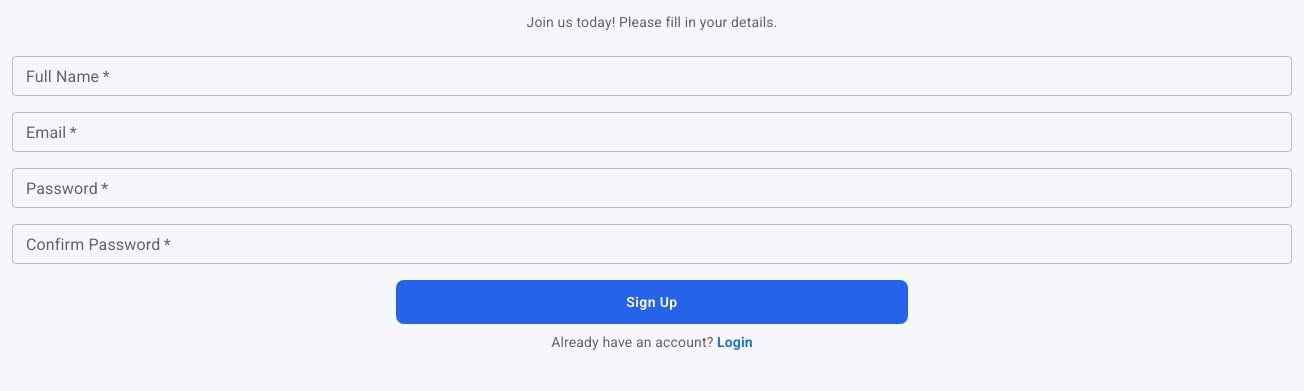
Scenario: shows error when passwords do not match
Type "bala" into the field labelled "Full Name *".
click(652, 76); type("bala")  # box [12,56,1292,96]
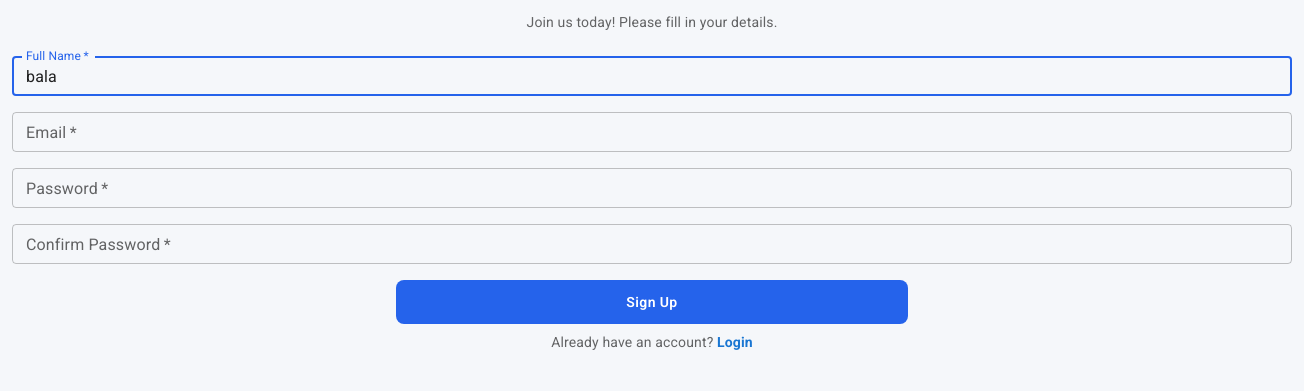
Type "bala@test.com" into the field labelled "Email *".
click(652, 132); type("bala@test.com")  # box [12,112,1292,152]
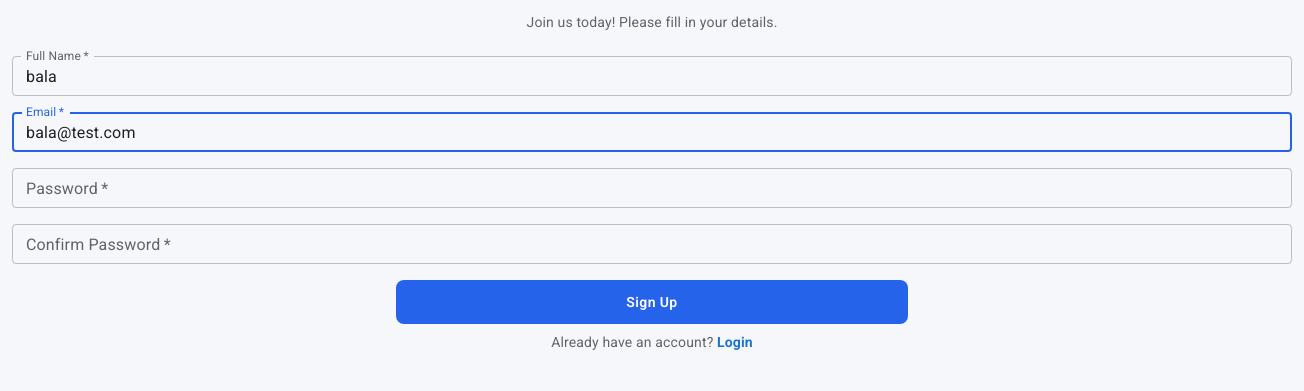
Type "Password123!" into the password field labelled "Password *".
click(652, 188); type("Password123!")  # box [12,168,1292,208]
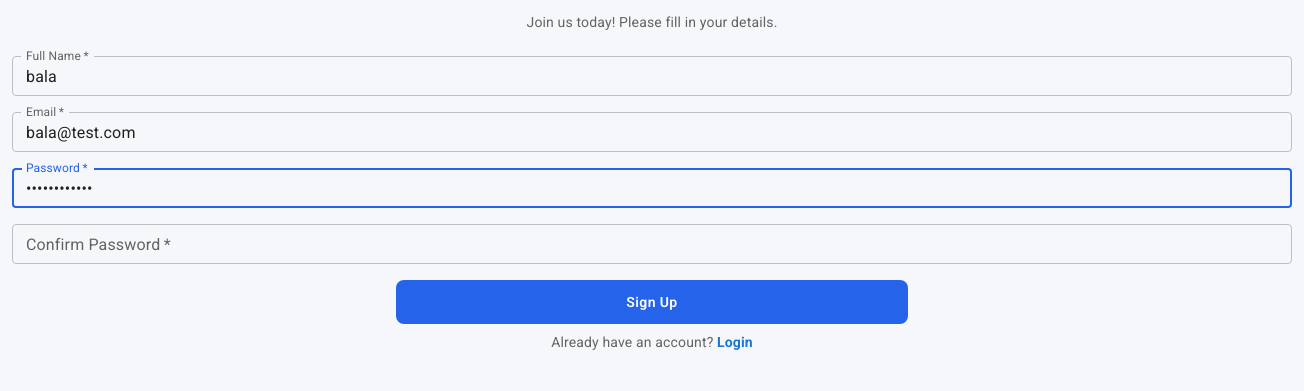
Type "WrongPassword!" into the password field labelled "Confirm Password *".
click(652, 244); type("WrongPassword!")  # box [12,224,1292,264]
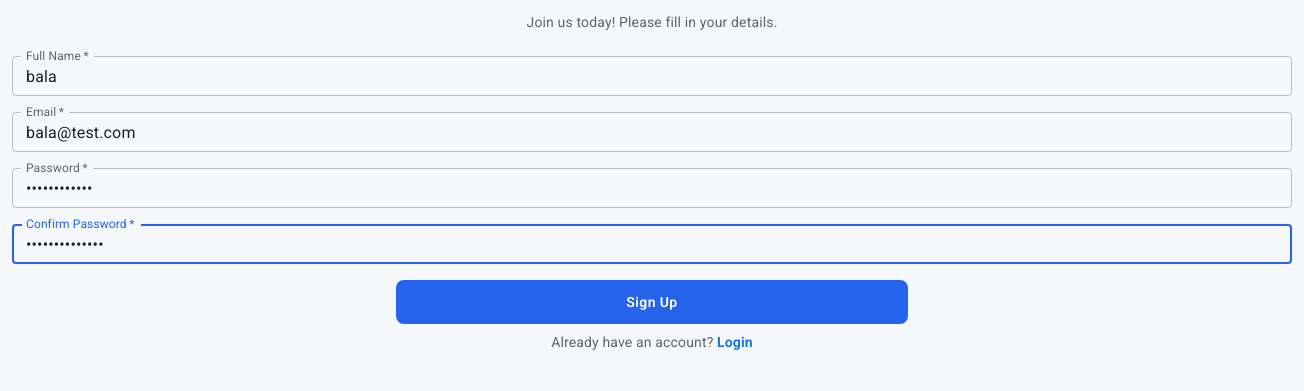
Click the button "Sign Up".
click(652, 302)  # box [396,280,908,324]
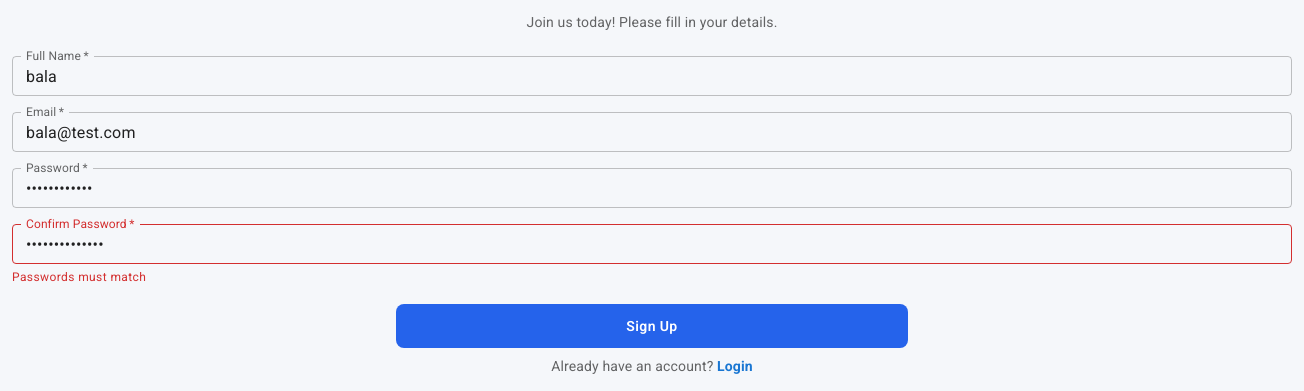
Expected: the text "Passwords must match" is shown, [12,270,146,284]
